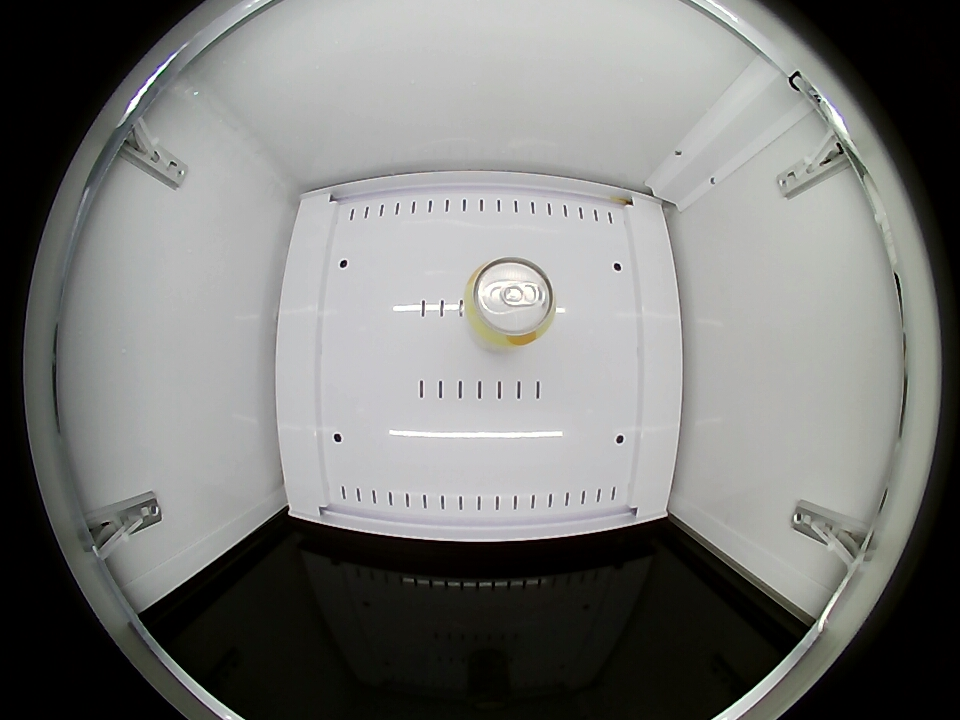mangguoxiaolao: (463, 257, 557, 349)
